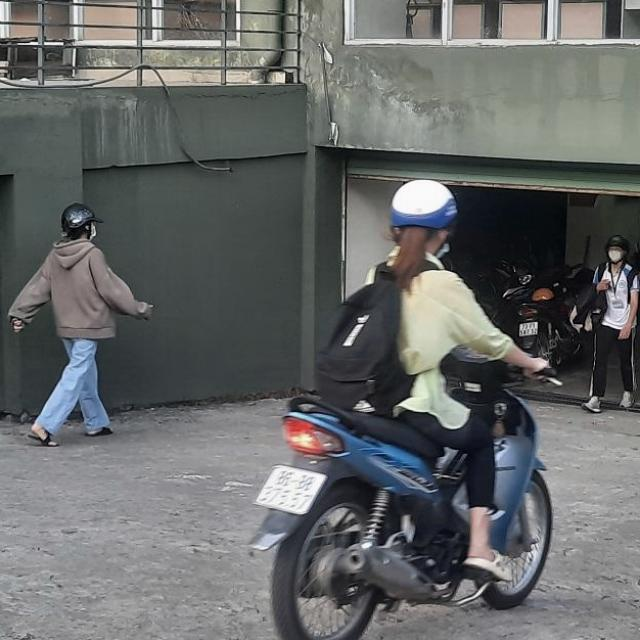Helmet: (393, 169, 458, 256), (53, 201, 102, 239)
